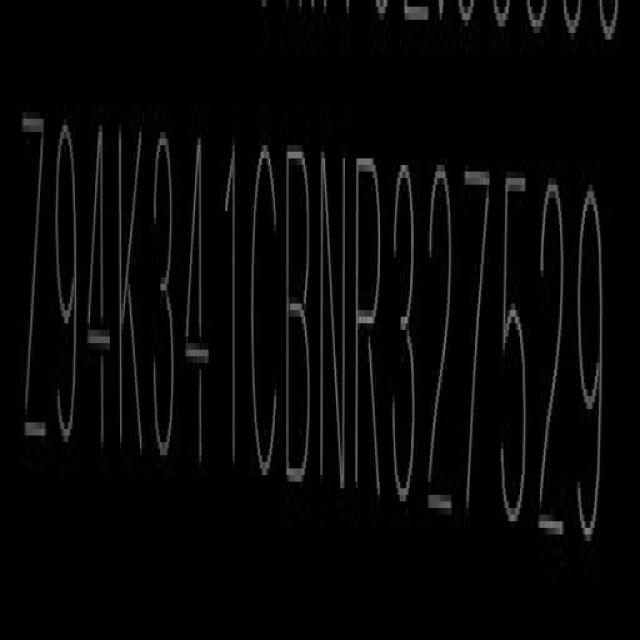1: (220, 134, 241, 483)
2: (538, 179, 572, 548), (428, 157, 457, 518)
3: (391, 154, 422, 503), (152, 120, 177, 477)
4: (184, 126, 215, 473), (87, 113, 115, 459)
5: (500, 167, 531, 536)
7: (461, 159, 492, 527)
9: (576, 183, 607, 556), (49, 110, 78, 460)
B: (286, 135, 317, 489)
C: (250, 137, 279, 483)
K: (118, 117, 148, 463)
N: (320, 144, 350, 496)
R: (352, 151, 386, 498)
Z: (19, 104, 46, 457)
